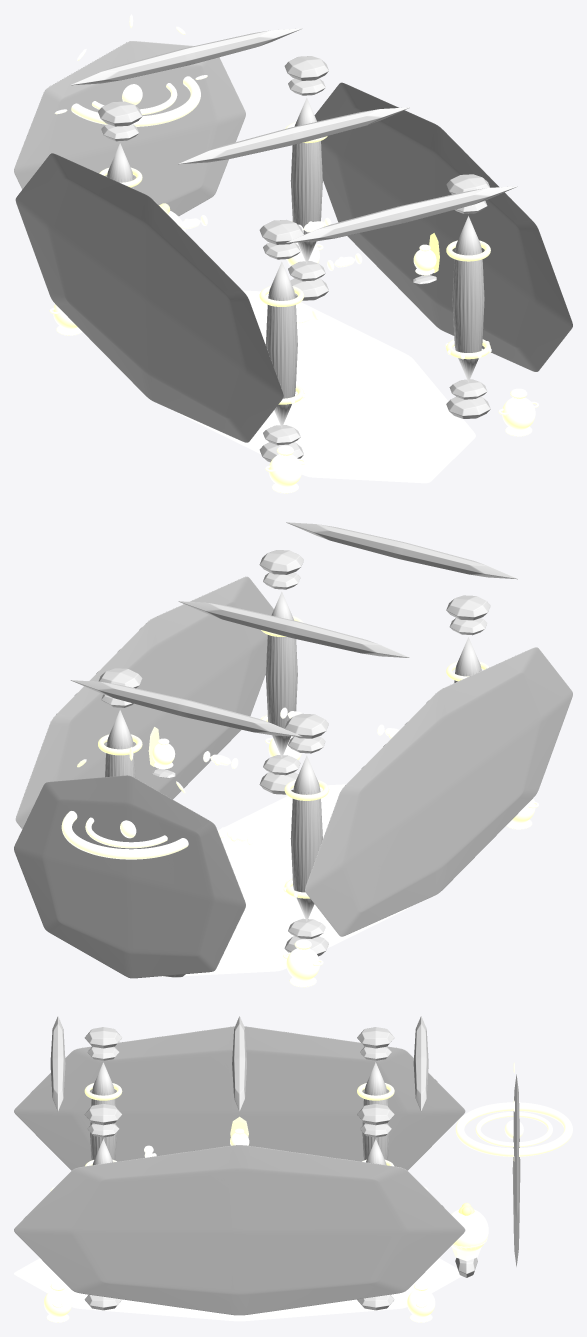
File: memory_vaults_r2_v3.glb
3 renders of one model, top to bottom at view 1: azimuth 30°, elevation 25°; view 2: azimuth 150°, elevation 25°; view 3: azimuth 270°, elevation 25°, orthographic. The views are drawn at different scales.
Parts seen in each view (by area): view 1: wall_L, wall_R, floor, wall_back, pl_R_0_shaft, pl_L_0_shaft, arch_1_keystone, arch_0_keystone, arch_2_keystone, pl_R_1_shaft, relief_outer, urn_1_body (+7 smaller); view 2: wall_L, wall_back, wall_R, floor, pl_L_1_shaft, arch_1_keystone, arch_0_keystone, arch_2_keystone, pl_R_0_shaft, relief_outer, pl_R_1_shaft, urn_2_body (+8 smaller); view 3: wall_R, wall_L, floor, relief_outer, wall_back, arch_2_keystone, arch_0_keystone, arch_1_keystone, pl_L_0_shaft, pl_L_1_shaft, brz_bowl, relief_inner (+8 smaller).
Boxes of the visible parts, x1,y1,x2,y2 form: wall_L: (15,153,283,442); wall_R: (314,82,572,371); floor: (178,290,475,483); wall_back: (14,41,245,216); pl_R_0_shaft: (452,216,484,382); pl_L_0_shaft: (265,261,297,427); arch_1_keystone: (178,107,409,164); arch_0_keystone: (286,186,517,242); arch_2_keystone: (71,28,302,85); pl_R_1_shaft: (290,97,322,263); relief_outer: (71,76,200,126); urn_1_body: (502,397,535,430); wall_L: (305,647,572,936); wall_back: (14,775,245,978); wall_R: (15,576,273,829); floor: (159,784,410,977); pl_L_1_shaft: (290,755,322,921); arch_1_keystone: (178,601,409,657); arch_0_keystone: (286,522,517,579); arch_2_keystone: (70,680,302,736); pl_R_0_shaft: (265,591,297,757); relief_outer: (61,804,189,859); pl_R_1_shaft: (105,710,135,777); urn_2_body: (286,948,319,980); wall_R: (14,1145,465,1315); wall_L: (14,1026,465,1170); floor: (14,1258,461,1321); relief_outer: (455,1102,572,1156); wall_back: (512,1074,520,1266); arch_2_keystone: (413,1016,428,1111); arch_0_keystone: (50,1016,65,1110); arch_1_keystone: (232,1016,246,1111); pl_L_0_shaft: (90,1062,116,1160); pl_L_1_shaft: (362,1062,389,1160); brz_bowl: (451,1209,488,1251); relief_inner: (475,1111,552,1147).
Bounding box in the file's own units: 6.37 × 5.31 × 12.31.
